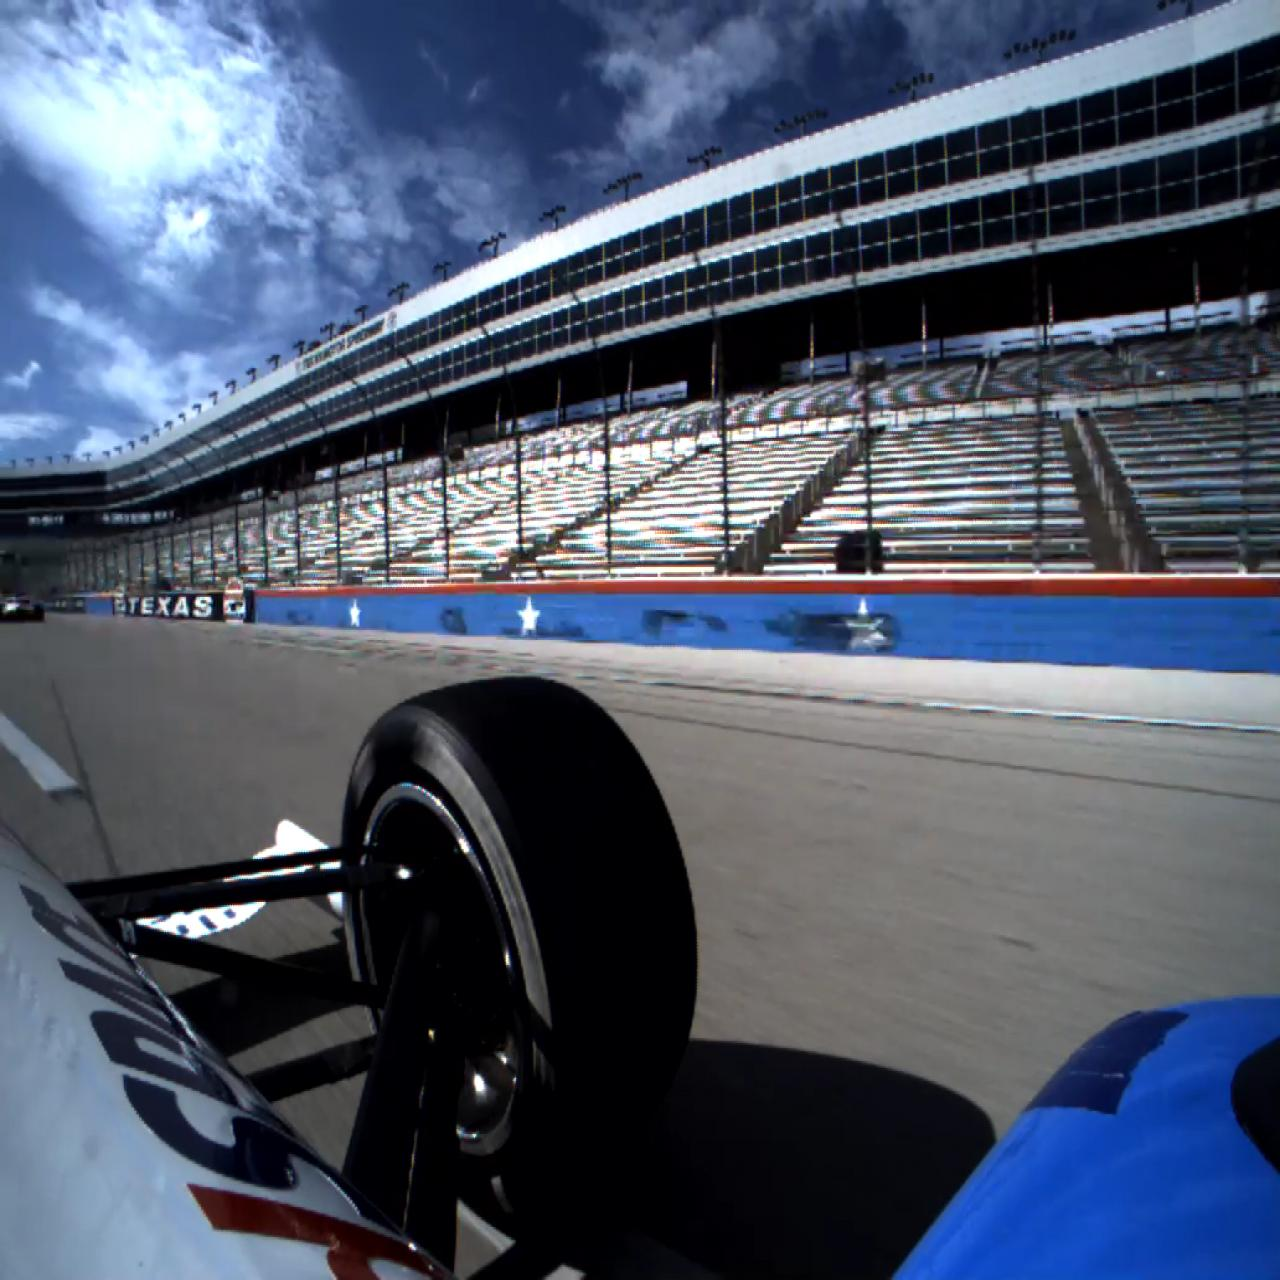AV: (0, 592, 45, 622)
Wheel: (341, 678, 699, 1232), (33, 604, 45, 622)
